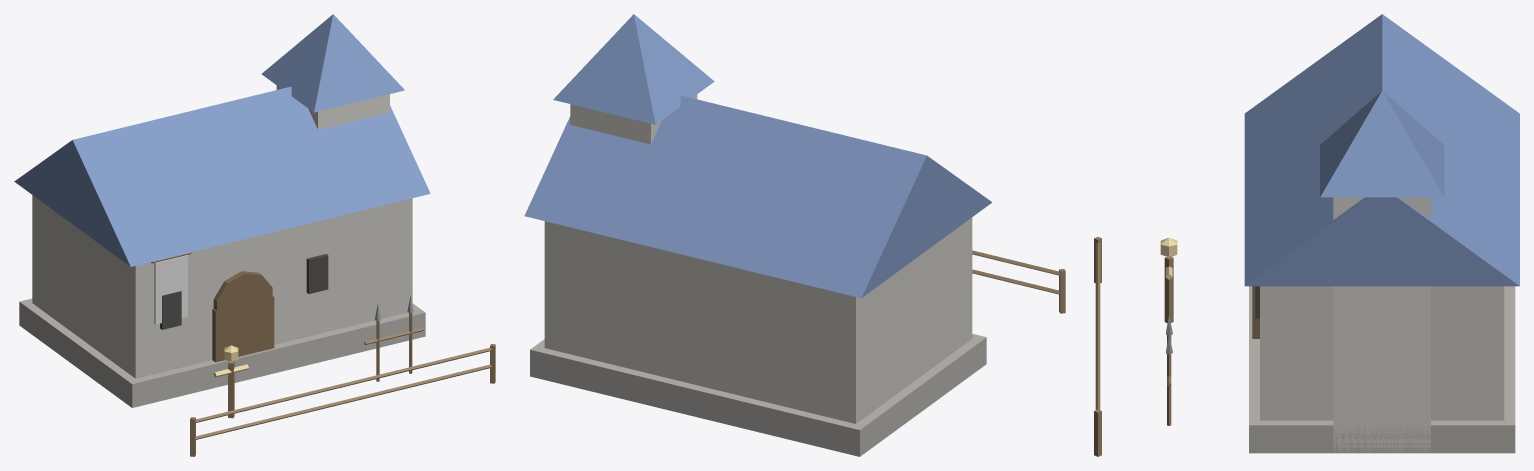
The picture shows the model from 3 angles, left to right: view 1: azimuth 30°, elevation 25°; view 2: azimuth 150°, elevation 25°; view 3: azimuth 270°, elevation 25°; orthographic projection. The views are drawn at different scales.
Parts seen in each view (by area): view 1: body; view 2: body; view 3: body.
Boxes of the visible parts, <box> form: body: <box>14,14,495,456</box>; body: <box>524,14,1065,456</box>; body: <box>1094,14,1519,456</box>.
Bounding box in the file's own units: 9.49 × 8.5 × 9.59.
